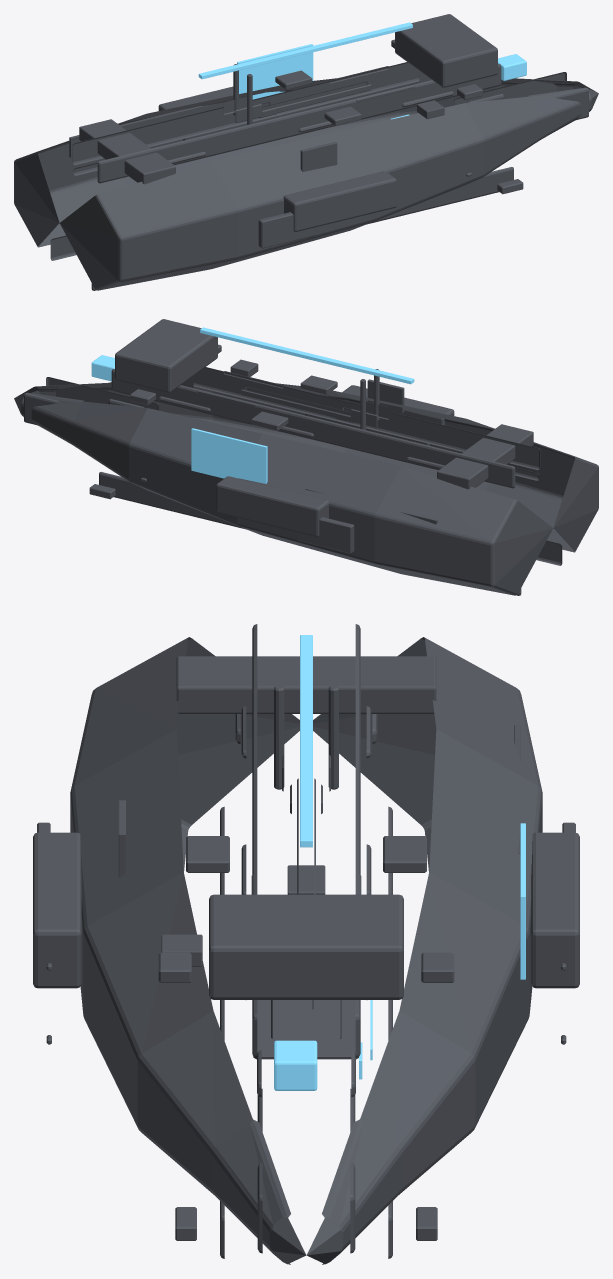
The model's file is _hull_courier_elite_export.glb.
The picture shows the model from 3 angles, top to bottom: view 1: azimuth 30°, elevation 25°; view 2: azimuth 150°, elevation 25°; view 3: azimuth 270°, elevation 25°; orthographic projection. The views are drawn at different scales.
Parts seen in each view (by area): view 1: LOD0_HULL_CORVETTE_MAIN, DET_bridge_super, DET_engine_vent, DET_corporate_stencil, DET_escort_nav_stripe, DET_field_patch, DET_dock_wear, DET_sensor_array, DET_turret_collar; view 2: LOD0_HULL_CORVETTE_MAIN, DET_bridge_super, DET_corporate_stencil, DET_engine_vent, DET_escort_nav_stripe, DET_field_patch, DET_sensor_array; view 3: LOD0_HULL_CORVETTE_MAIN, DET_bridge_super, DET_engine_vent, DET_dock_runner_scuff, DET_escort_nav_stripe, DET_sensor_array, DET_message_pod_bay, DET_turret_collar, DET_corporate_stencil.
Part boxes in pixels (box(x1,y1,x2,y2)): LOD0_HULL_CORVETTE_MAIN: box(14, 39, 598, 290); DET_bridge_super: box(395, 14, 497, 87); DET_engine_vent: box(79, 119, 175, 184); DET_corporate_stencil: box(237, 44, 313, 99); DET_escort_nav_stripe: box(198, 22, 412, 79); DET_field_patch: box(300, 142, 337, 171); DET_dock_wear: box(69, 106, 201, 157); DET_sensor_array: box(498, 54, 526, 80); DET_turret_collar: box(417, 100, 444, 119); LOD0_HULL_CORVETTE_MAIN: box(14, 344, 598, 595); DET_bridge_super: box(115, 319, 217, 392); DET_corporate_stencil: box(191, 428, 267, 483); DET_engine_vent: box(437, 424, 533, 489); DET_escort_nav_stripe: box(200, 327, 414, 384); DET_field_patch: box(367, 379, 404, 413); DET_sensor_array: box(91, 355, 114, 381); LOD0_HULL_CORVETTE_MAIN: box(33, 624, 579, 1264); DET_bridge_super: box(209, 894, 403, 999); DET_engine_vent: box(176, 656, 436, 713); DET_dock_runner_scuff: box(252, 1000, 358, 1059); DET_escort_nav_stripe: box(300, 635, 312, 847); DET_sensor_array: box(274, 1040, 317, 1090); DET_message_pod_bay: box(287, 865, 325, 894); DET_turret_collar: box(161, 934, 202, 966); DET_corporate_stencil: box(520, 823, 525, 979).
Bounding box in the file's own units: 11.5 × 3.46 × 5.05.
